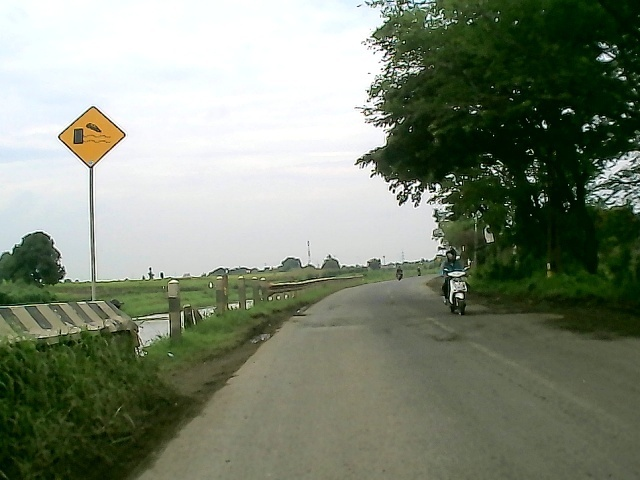Peringatan tepi air: (56, 104, 129, 170)
